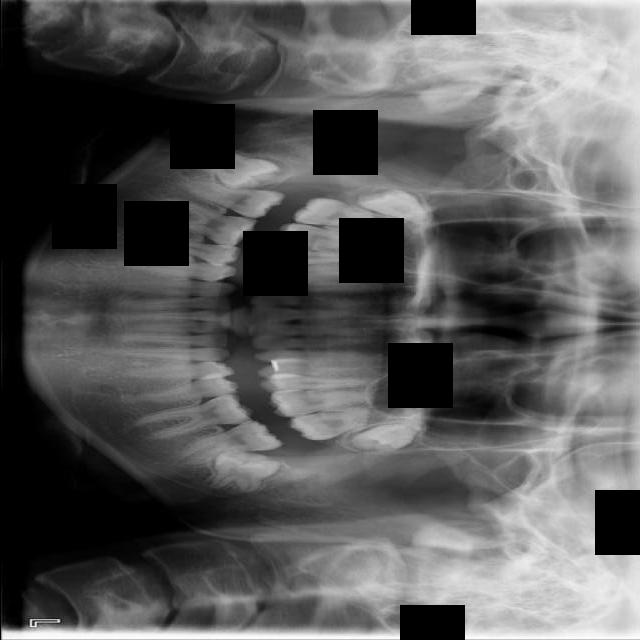3M ESPE Implant: (353, 176, 431, 227)
73: (48, 579, 54, 582)
BioHorizons Implant: (286, 405, 400, 444)
BioLife Implant: (348, 417, 430, 460)
Biomet 3i Implant: (207, 447, 280, 498)
Blue Sky Bio Implant: (174, 415, 282, 469)
Caries: (291, 194, 385, 235)
Implant: (173, 176, 288, 223)
Keystone Dental Implant: (188, 139, 285, 202)
